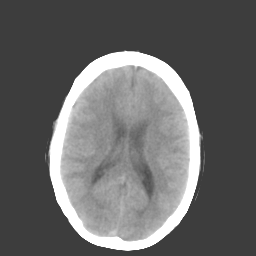ischemic: (96, 123, 111, 149)
